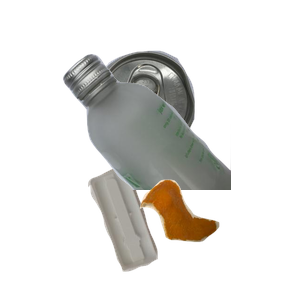glass: (60, 51, 300, 231)
metal: (89, 48, 276, 192)
plastic: (85, 163, 235, 300)
trash: (137, 177, 300, 300)
